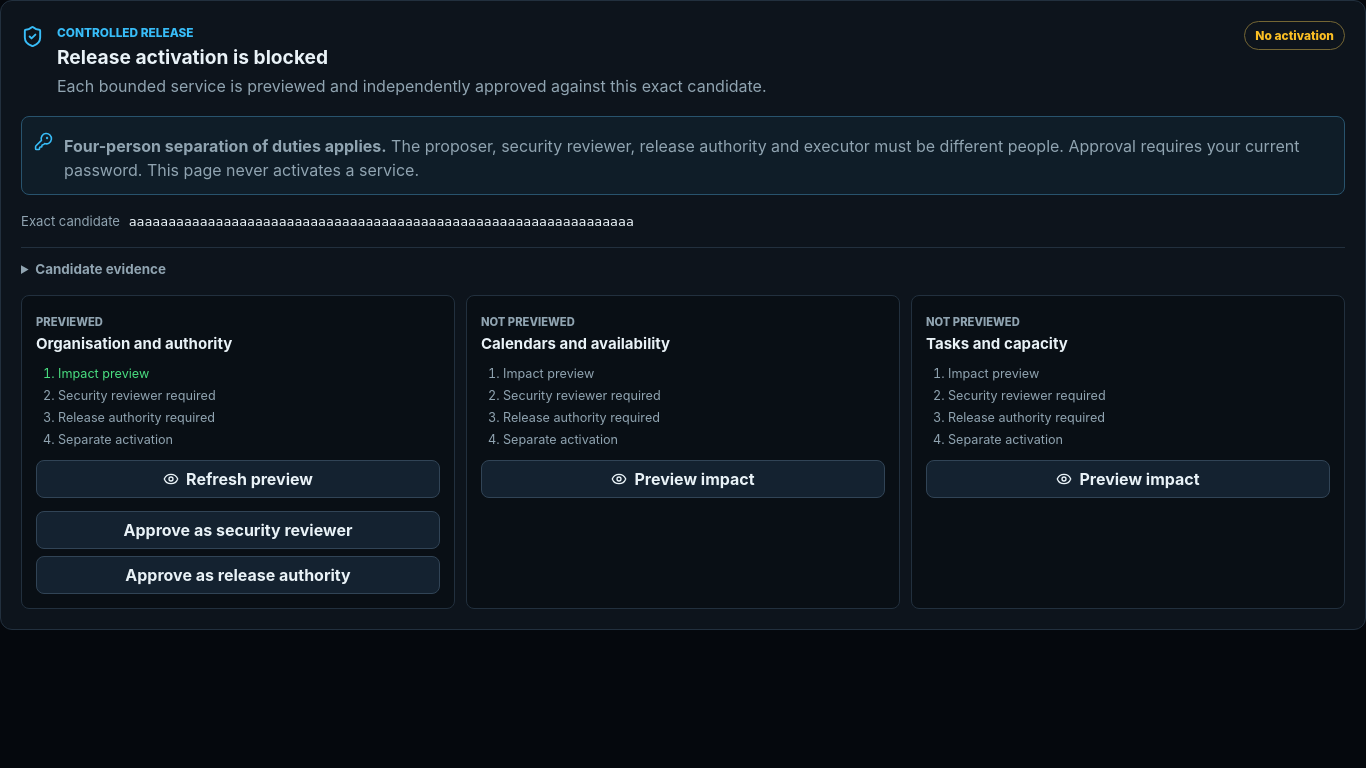
it: a rejected approval is reported and the reviewer can cancel
Click the button "Approve as security reviewer": click(238, 530) 36,511 -> 440,549
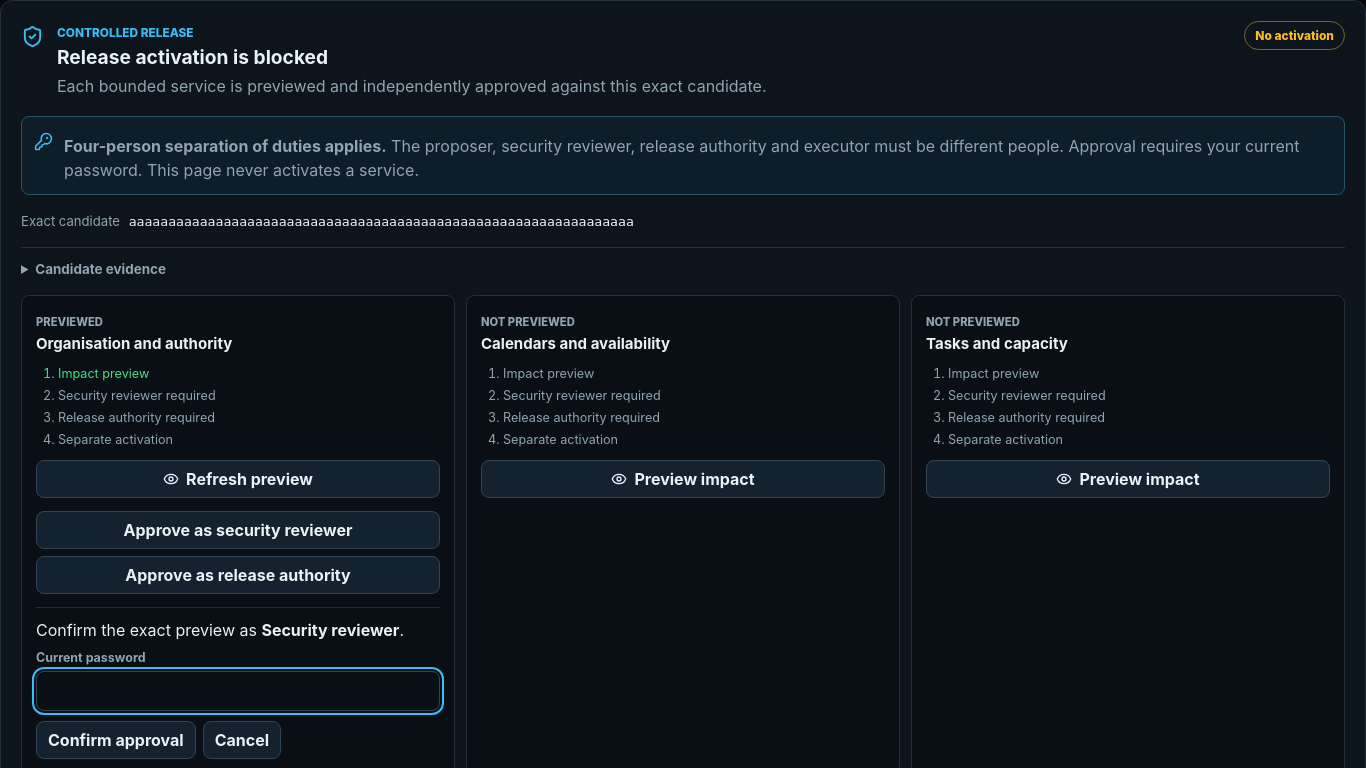
In the password field labelled "Current password": (238, 691) 36,671 -> 440,711, type "wrong-password"
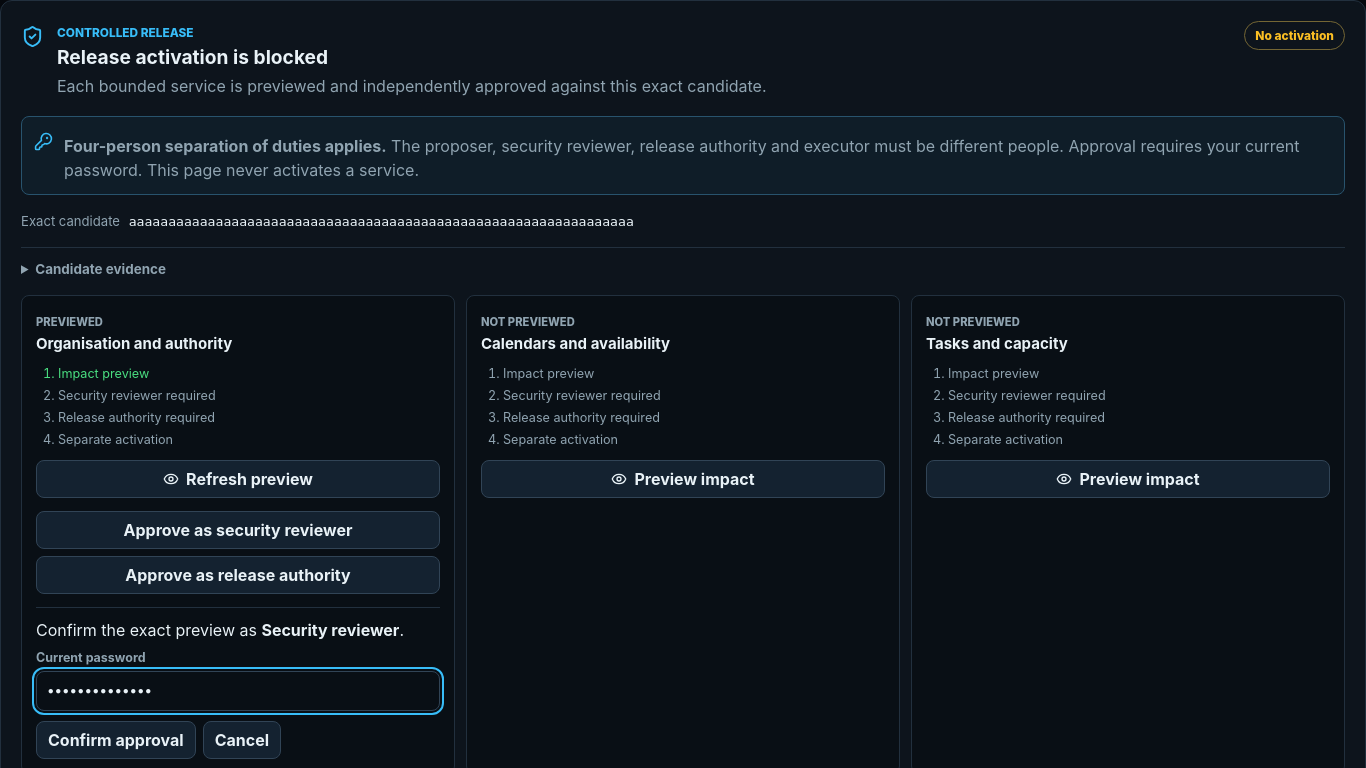
Click the button "Confirm approval": click(116, 740) 36,721 -> 196,759
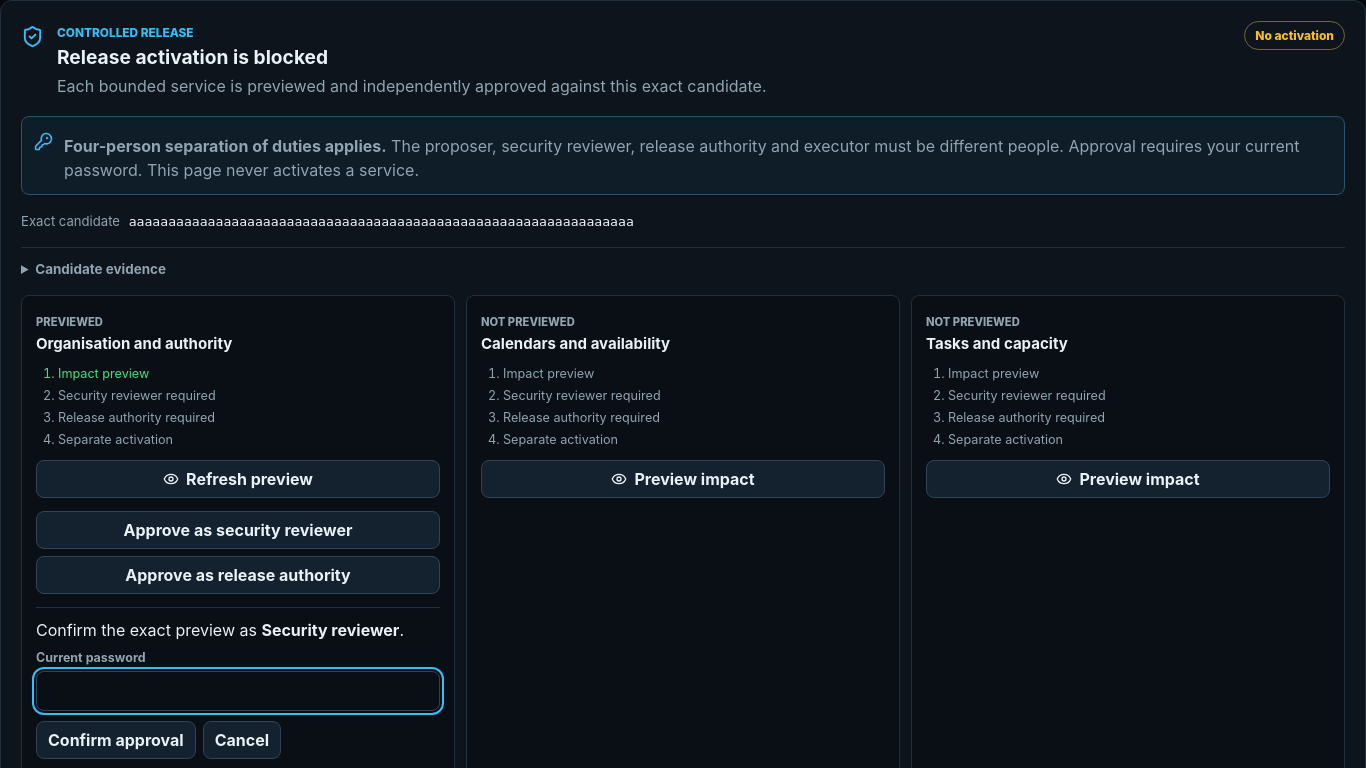
Click the button "Cancel": click(242, 740) 203,721 -> 281,759
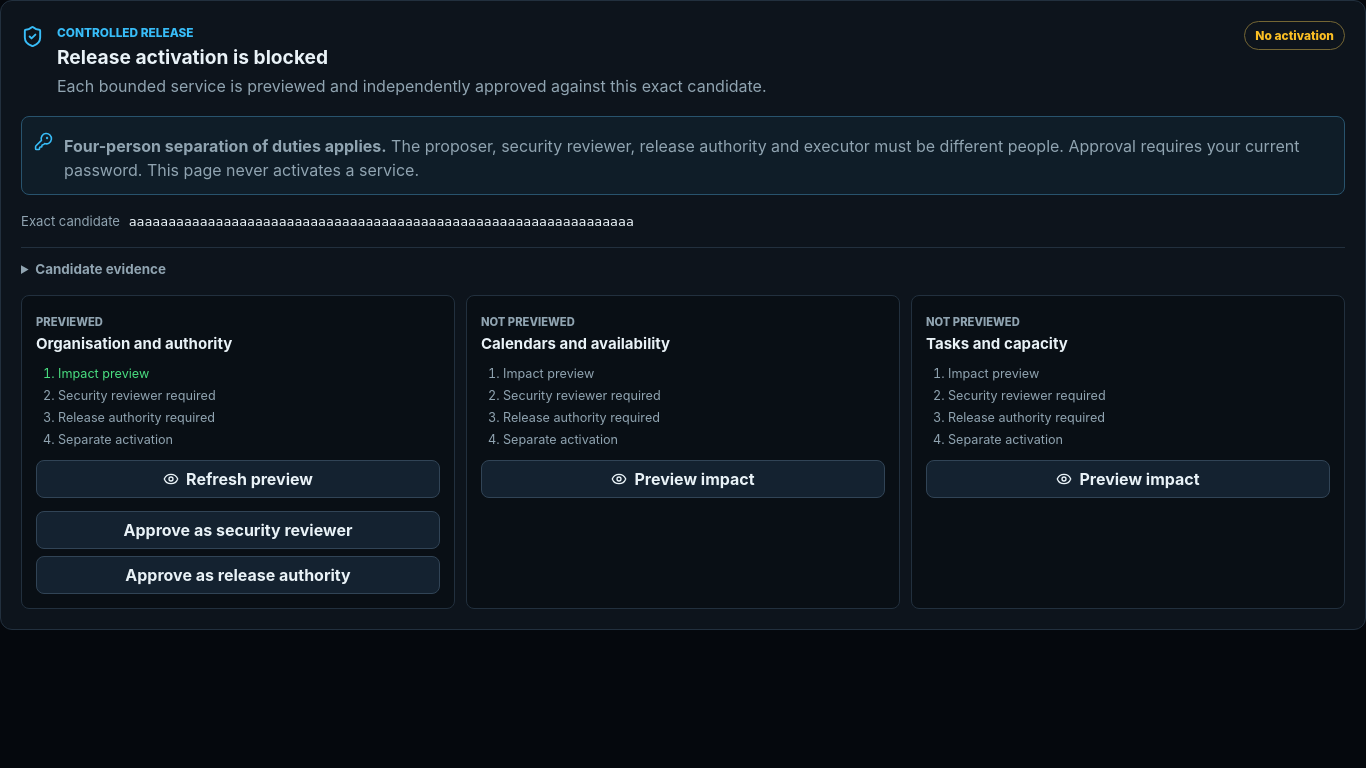
Check: the password field labelled "Current password" is gone
